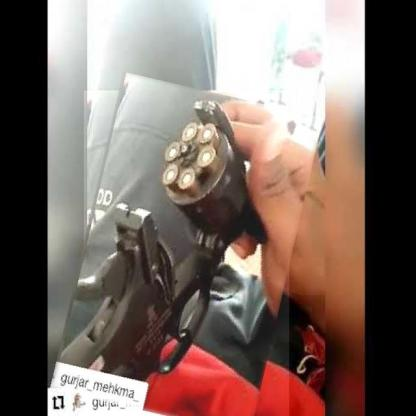handgun: (67, 80, 306, 416)
